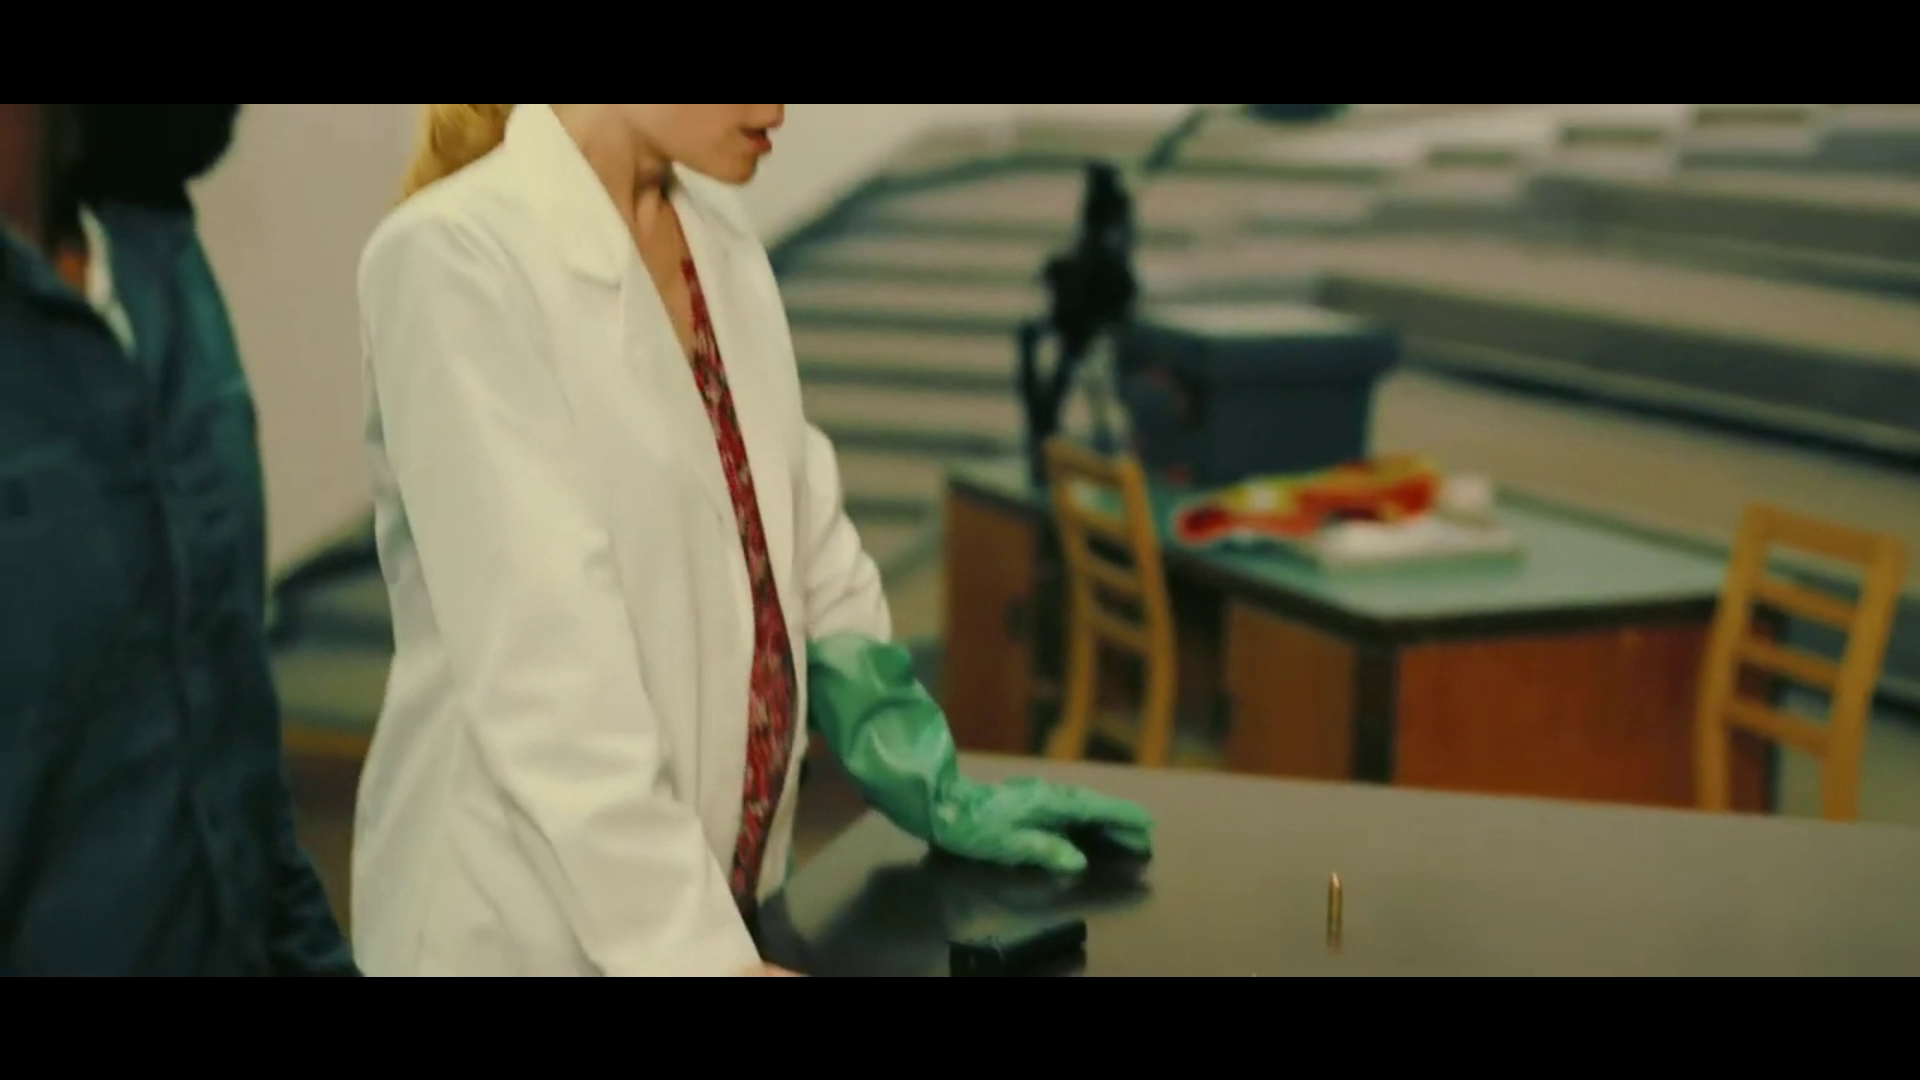Bullet: (1323, 866, 1348, 924)
